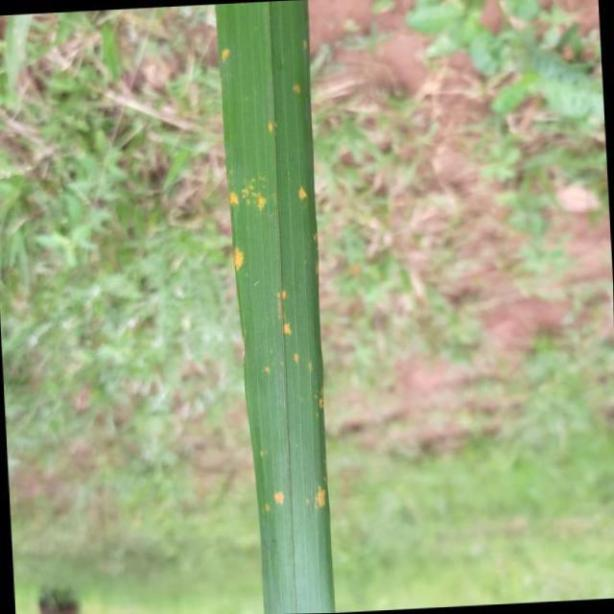Kalium: (209, 1, 340, 614)
